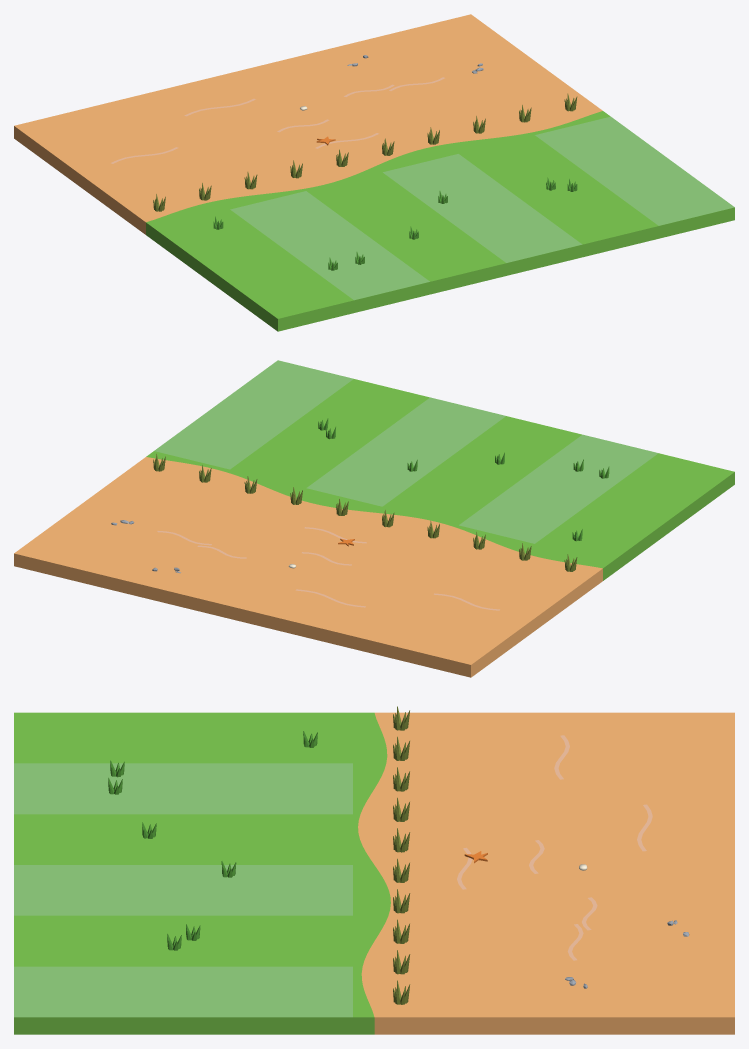
File: grama_areia_reta.glb
3 renders of one model, top to bottom at view 1: azimuth 30°, elevation 25°; view 2: azimuth 150°, elevation 25°; view 3: azimuth 270°, elevation 25°, orthographic. The views are drawn at different scales.
Parts seen in each view (by area): view 1: grama_areia_reta; view 2: grama_areia_reta; view 3: grama_areia_reta.
Part boxes in pixels (bbox=[...]): grama_areia_reta: bbox=[14, 14, 734, 331]; grama_areia_reta: bbox=[14, 360, 734, 677]; grama_areia_reta: bbox=[14, 706, 734, 1034].
Size of the model in its own units: 15 by 0.818 by 15.
Materials: 1 (1 with a texture image).
